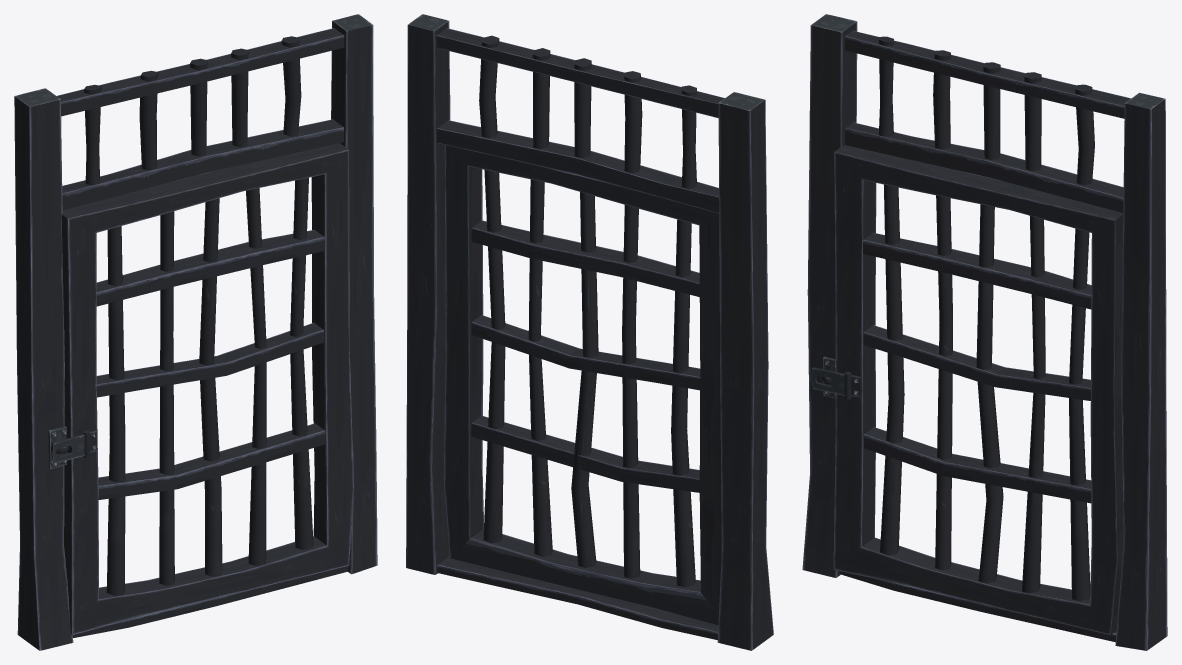
File: SM_PROP_bars_doorway_dungeon_01.fbx
The picture shows the model from 3 angles, left to right: view 1: azimuth 30°, elevation 25°; view 2: azimuth 150°, elevation 25°; view 3: azimuth 330°, elevation 25°; orthographic projection.
Parts seen in each view (by area): view 1: SM_PROP_bars_door_01_dungeon, SM_PROP_bars_doorway_dungeon_01; view 2: SM_PROP_bars_door_01_dungeon, SM_PROP_bars_doorway_dungeon_01; view 3: SM_PROP_bars_door_01_dungeon, SM_PROP_bars_doorway_dungeon_01.
Boxes of the visible parts, x1,y1,x2,y2 form: SM_PROP_bars_door_01_dungeon: (51, 143, 353, 635); SM_PROP_bars_doorway_dungeon_01: (14, 14, 377, 650); SM_PROP_bars_door_01_dungeon: (443, 145, 721, 625); SM_PROP_bars_doorway_dungeon_01: (406, 14, 773, 650); SM_PROP_bars_door_01_dungeon: (811, 145, 1123, 635); SM_PROP_bars_doorway_dungeon_01: (802, 14, 1167, 650).
Bounding box in the file's own units: 201 × 301 × 27.37.
